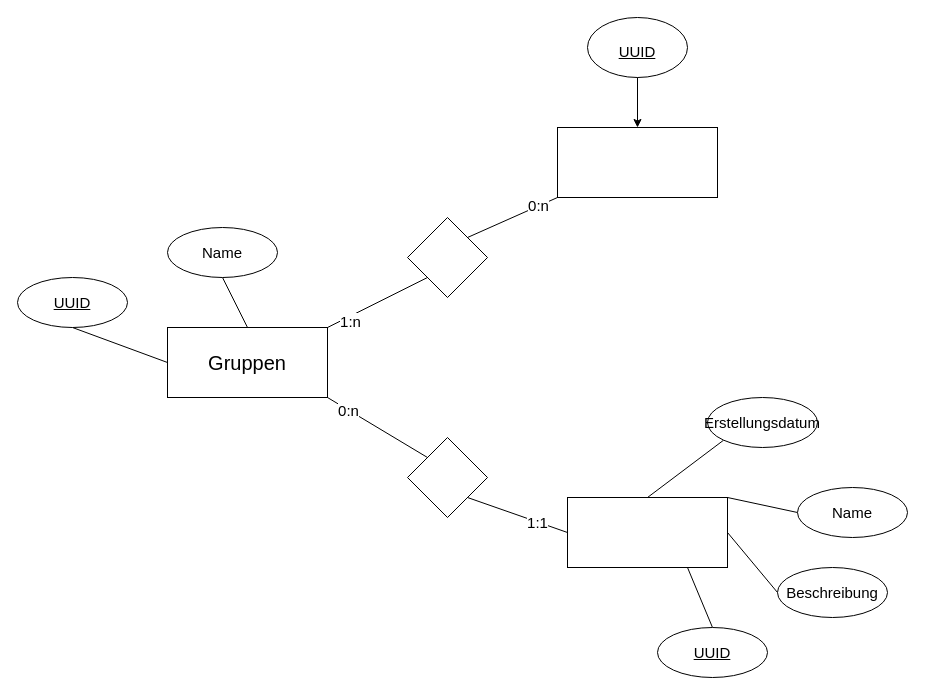
This 925x695 diagram has some shape labels left out. The shapes that lost their labels are listed below. From the top down, each one's centre as x and y in pixels, then its label:
pixel 637 162: Benutzer
pixel 447 257: zugeordnet
pixel 447 477: zugewiesen
pixel 647 532: Karten (Dienste)
